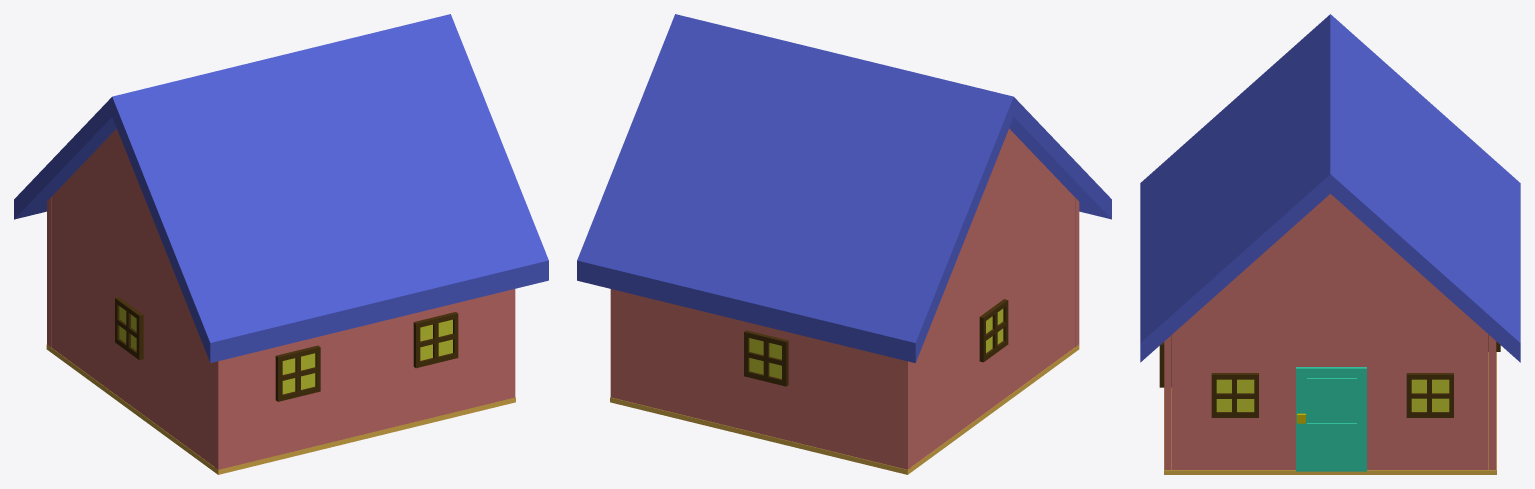
File: KittenSnek_house.fbx
3 views of the same model, side by side, from view 1: azimuth 30°, elevation 25°; view 2: azimuth 150°, elevation 25°; view 3: azimuth 270°, elevation 25° (orthographic). The views are drawn at different scales.
Visible parts, largest first — view 1: Roof, Wall_02, Wall_03, Floor, Wall_04; view 2: Roof, Wall_04, Wall_03, Floor, Wall_02; view 3: Roof, Wall_01, Floor, Wall_02, Wall_04.
Part boxes in pixels (x1,y1,x2,y2): Roof: (14, 14, 548, 362); Wall_02: (214, 289, 515, 469); Wall_03: (51, 128, 214, 466); Floor: (46, 344, 515, 474); Wall_04: (47, 197, 51, 347); Roof: (577, 14, 1111, 363); Wall_04: (610, 289, 911, 469); Wall_03: (911, 128, 1074, 466); Floor: (610, 345, 1079, 474); Wall_02: (1075, 197, 1079, 347); Roof: (1140, 14, 1520, 362); Wall_01: (1172, 194, 1488, 471); Floor: (1164, 352, 1496, 474); Wall_02: (1159, 335, 1171, 469); Wall_04: (1488, 335, 1500, 469).
Size of the model in its own units: 1596 by 1444 by 1602.
